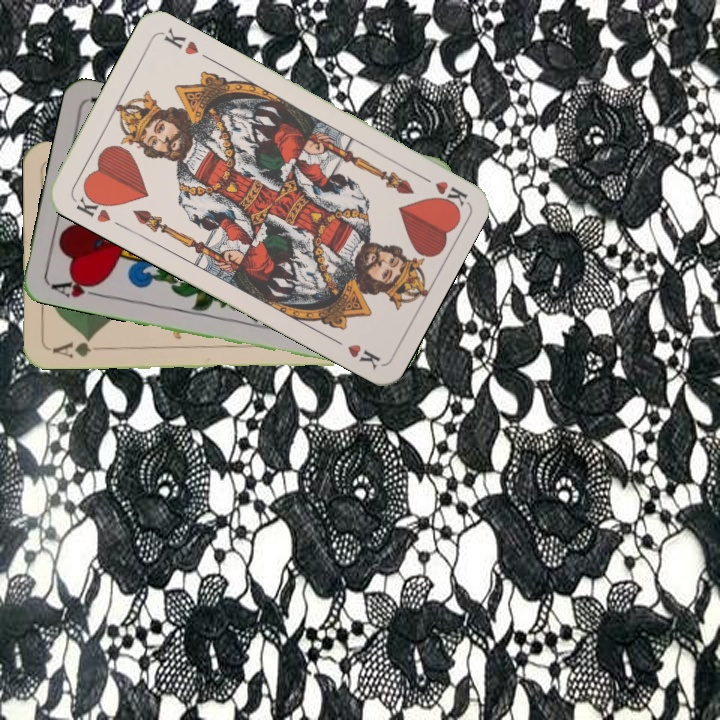GA: (49, 334, 107, 361)
HA: (46, 273, 105, 300)
HK: (413, 169, 470, 208), (70, 187, 114, 226)
